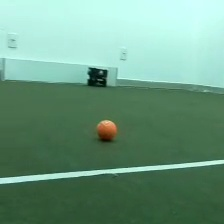ball: (94, 116, 119, 142)
goal: (1, 55, 120, 87)
robot: (84, 64, 109, 90)
